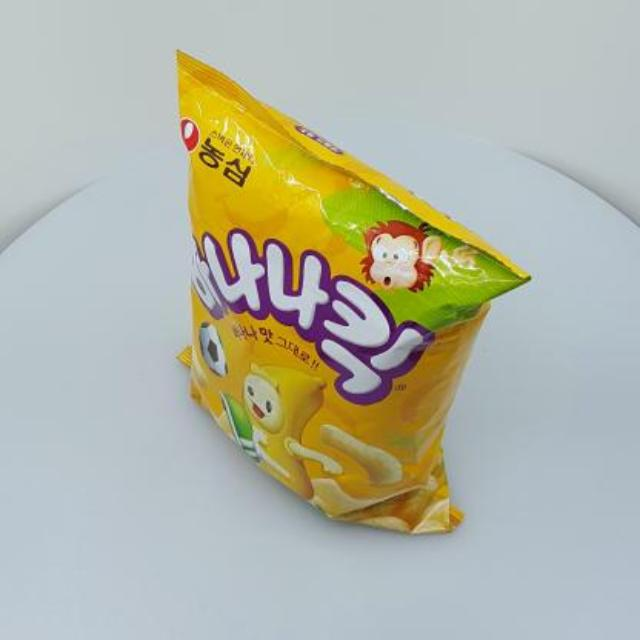snack_bag: (161, 38, 537, 546)
